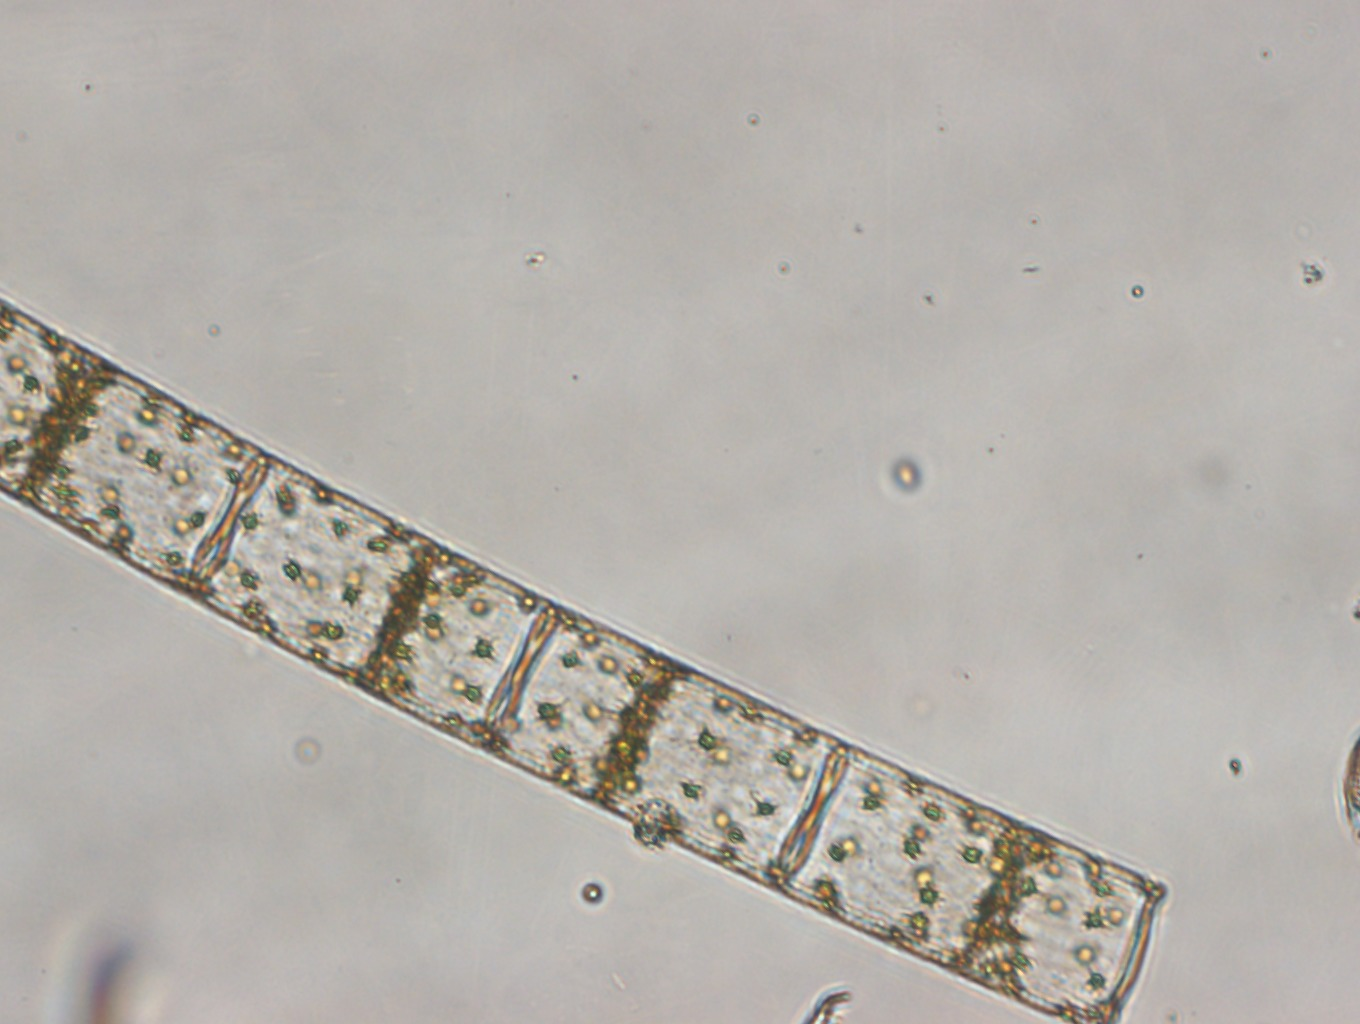guinardia flaccida: (1, 298, 1166, 1024)
